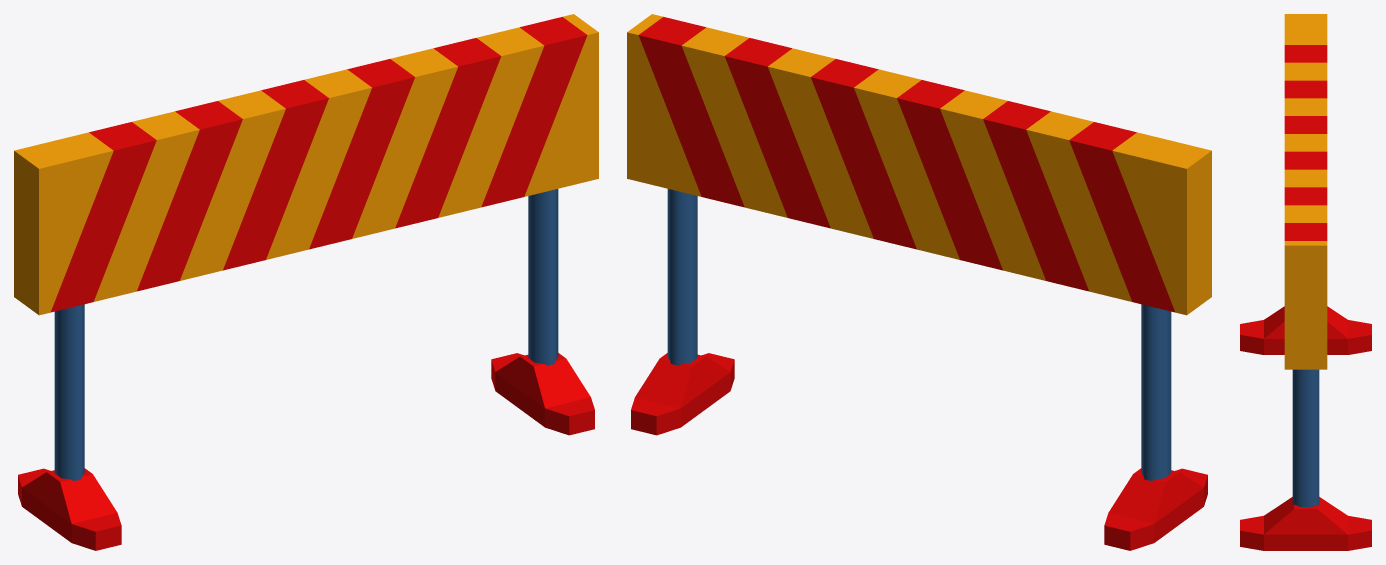
The model's file is Stop_Signal.fbx.
The picture shows the model from 3 angles, left to right: view 1: azimuth 30°, elevation 25°; view 2: azimuth 150°, elevation 25°; view 3: azimuth 270°, elevation 25°; orthographic projection. The views are drawn at different scales.
Parts seen in each view (by area): view 1: Stop Signal; view 2: Stop Signal; view 3: Stop Signal.
Boxes of the visible parts, left/top/right/bottom form: Stop Signal: left=14, top=14, right=598, bottom=550; Stop Signal: left=627, top=14, right=1211, bottom=550; Stop Signal: left=1240, top=14, right=1371, bottom=550.
Bounding box in the file's own units: 8 × 5.05 × 1.93.
